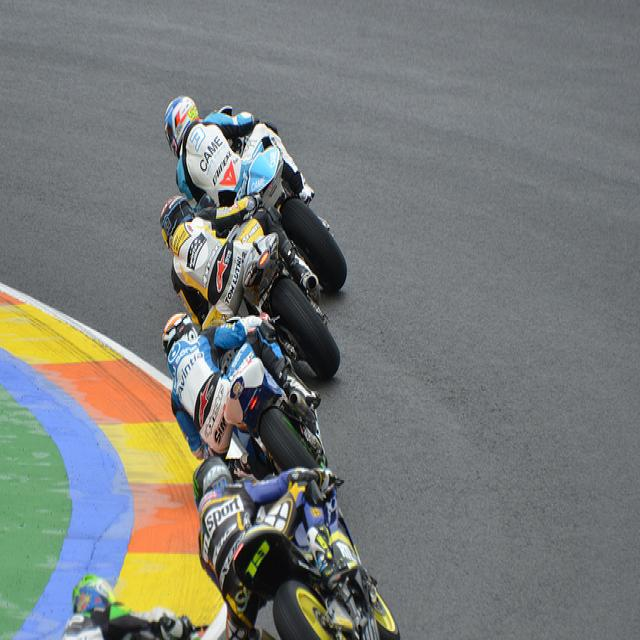motor: (199, 475, 358, 618), (245, 145, 349, 298), (242, 235, 344, 388), (240, 543, 398, 634), (223, 361, 327, 478)
